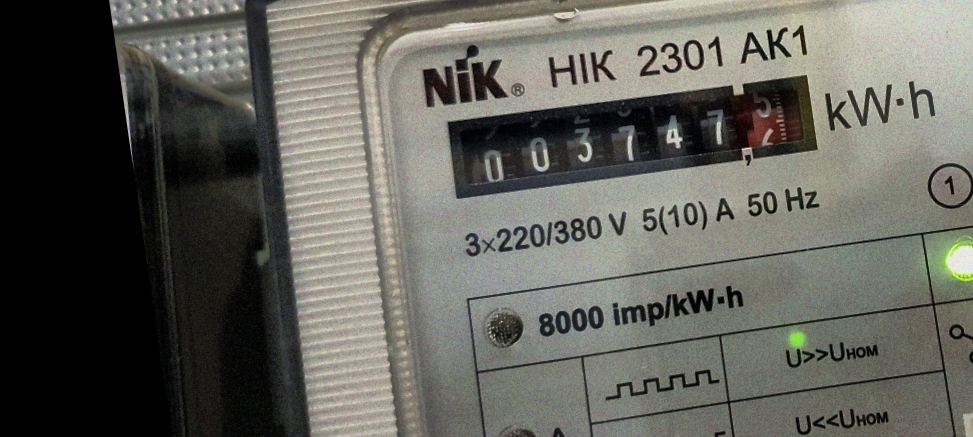0: (526, 133, 552, 174), (480, 146, 506, 184)
3: (571, 125, 595, 164)
4: (659, 111, 685, 153)
5: (750, 89, 774, 120)
6: (756, 124, 777, 148)
7: (702, 105, 730, 148), (615, 122, 640, 163)
screen: (435, 57, 834, 218)
